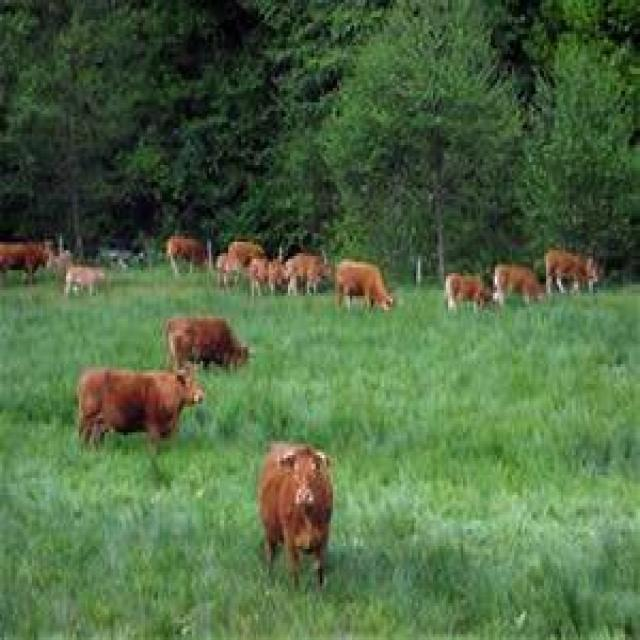cow: (77, 367, 205, 455), (258, 444, 335, 583), (162, 310, 254, 373), (335, 259, 395, 310), (544, 247, 604, 296), (489, 259, 546, 302), (47, 253, 100, 299), (444, 273, 499, 313), (282, 253, 322, 293)
